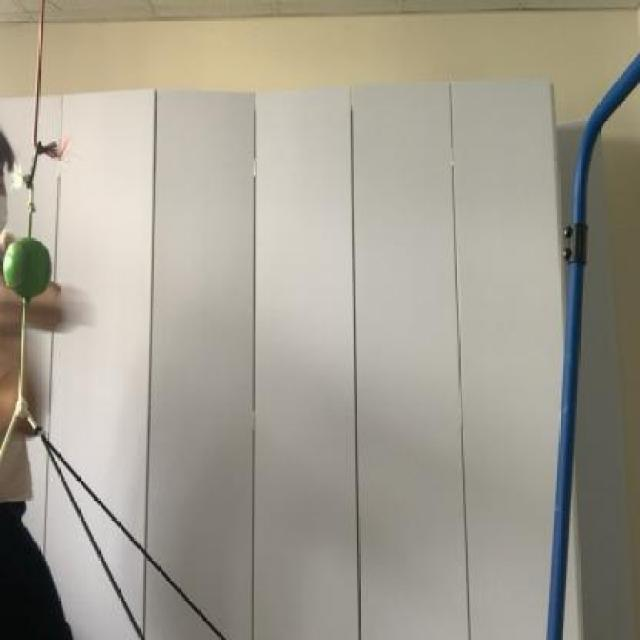baseball: (0, 232, 54, 306)
